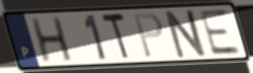1: (82, 13, 109, 63)
E: (197, 8, 243, 58)
H: (30, 16, 76, 64)
N: (163, 8, 210, 60)
P: (132, 11, 166, 60)
T: (99, 11, 131, 63)
